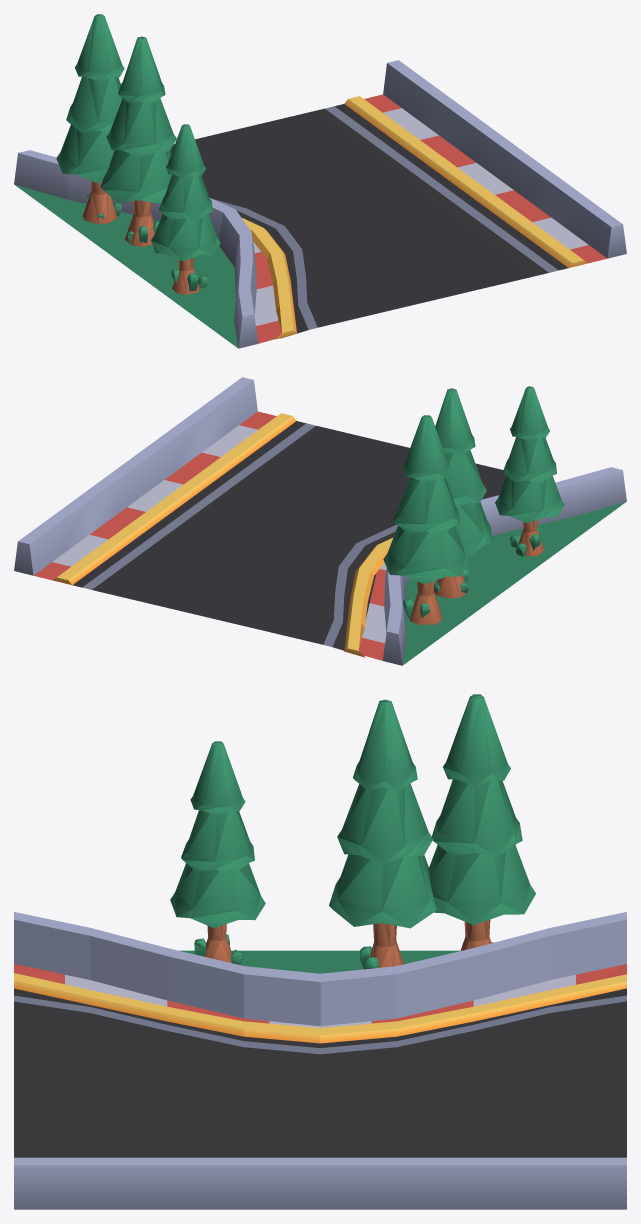
The model's file is track-choke-half.glb.
3 renders of one model, top to bottom at view 1: azimuth 30°, elevation 25°; view 2: azimuth 150°, elevation 25°; view 3: azimuth 270°, elevation 25°, orthographic. The views are drawn at different scales.
Parts seen in each view (by area): view 1: track-straight.005; view 2: track-straight.005; view 3: track-straight.005.
Part boxes in pixels (box(x1,y1,x2,y2)): track-straight.005: box(14, 14, 626, 348); track-straight.005: box(14, 377, 626, 665); track-straight.005: box(14, 694, 626, 1209).
Size of the model in its own units: 10.16 by 4.96 by 10.
1 material, 1 textured.
